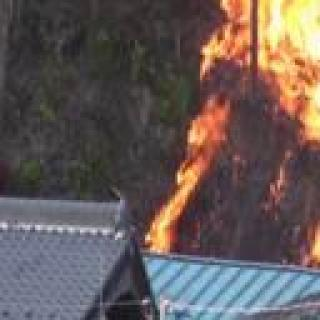fire: (157, 0, 320, 263)
